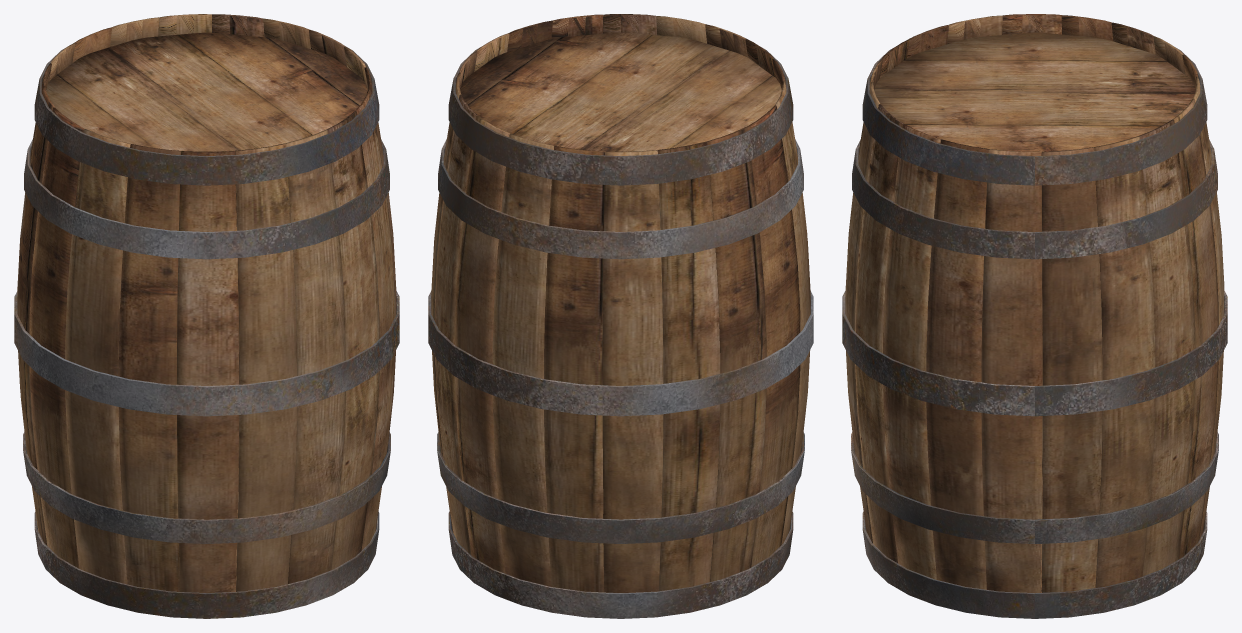
File: Barrel.fbx
The picture shows the model from 3 angles, left to right: view 1: azimuth 30°, elevation 25°; view 2: azimuth 150°, elevation 25°; view 3: azimuth 270°, elevation 25°; orthographic projection.
Parts seen in each view (by area): view 1: Wood Barrel, Iron Barrel; view 2: Wood Barrel, Iron Barrel; view 3: Wood Barrel, Iron Barrel.
Part boxes in pixels (bbox=[...]): Wood Barrel: bbox=[17, 14, 396, 592]; Iron Barrel: bbox=[14, 30, 399, 618]; Wood Barrel: bbox=[431, 14, 810, 592]; Iron Barrel: bbox=[428, 17, 813, 618]; Wood Barrel: bbox=[845, 14, 1224, 592]; Iron Barrel: bbox=[842, 38, 1227, 618].
Size of the model in its own units: 90.71 by 120 by 90.21.
2 materials, 2 textured.
